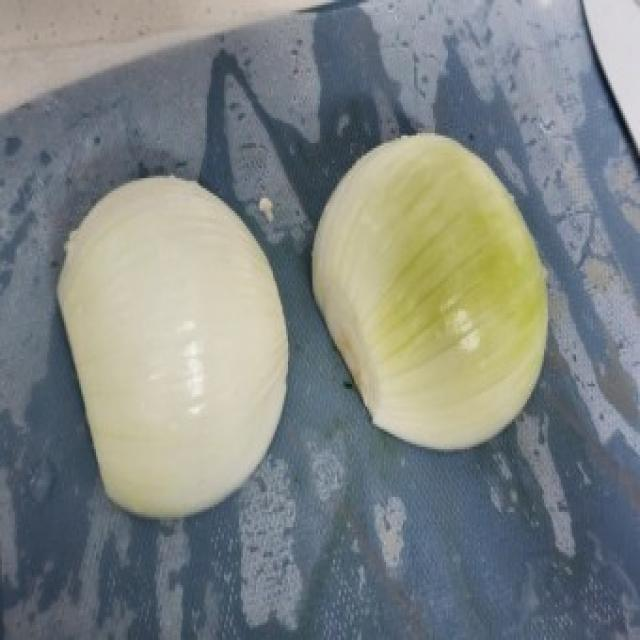onion: (36, 166, 305, 531), (310, 129, 560, 451)
